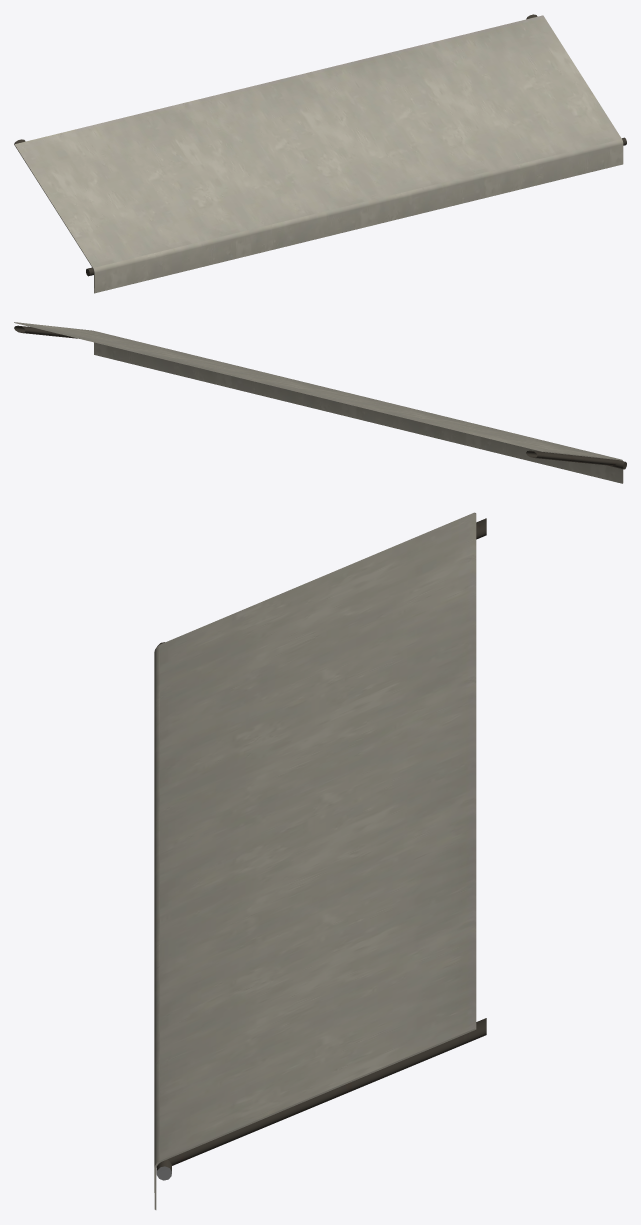
File: Prop_Awning_Long.glb
3 renders of one model, top to bottom at view 1: azimuth 30°, elevation 25°; view 2: azimuth 150°, elevation 25°; view 3: azimuth 270°, elevation 25°, orthographic. The views are drawn at different scales.
Parts seen in each view (by area): view 1: Prop_Awning_Long; view 2: Prop_Awning_Long; view 3: Prop_Awning_Long.
Boxes of the visible parts, x1=… form: Prop_Awning_Long: x1=14, y1=14, x2=626, y2=293; Prop_Awning_Long: x1=14, y1=322, x2=626, y2=483; Prop_Awning_Long: x1=154, y1=512, x2=486, y2=1209.
Size of the model in its own units: 5.7 by 0.9248 by 1.53.
2 materials, 2 textured.
